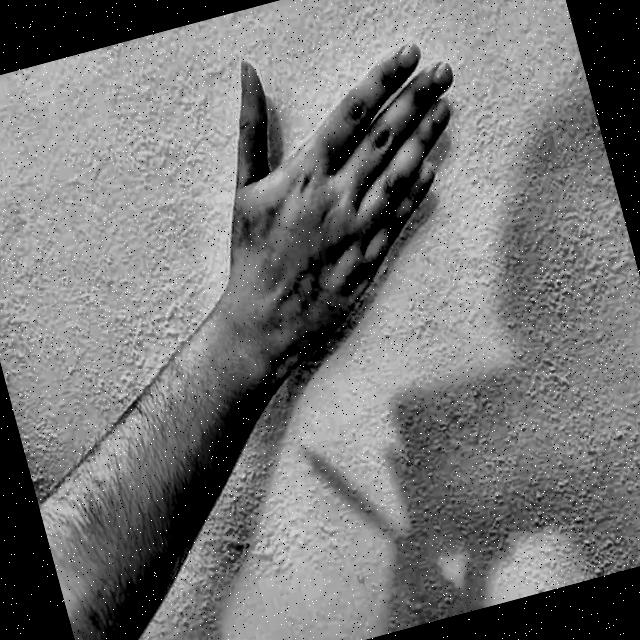Aa: (152, 0, 551, 407)
